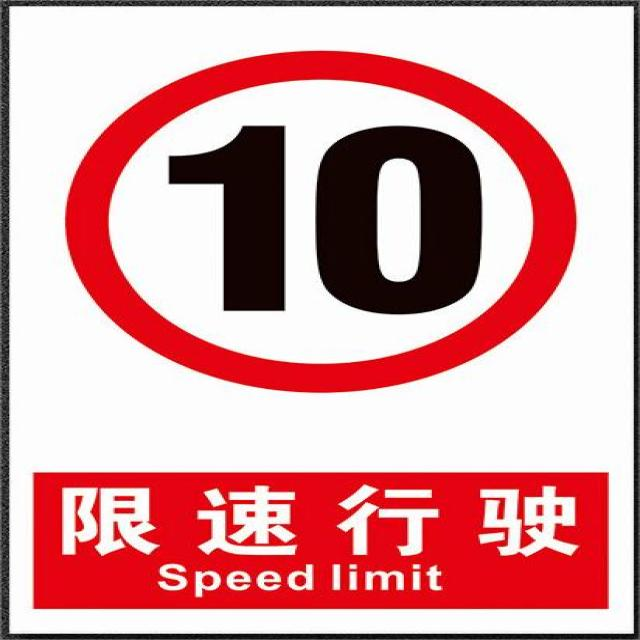speed limit 10: (63, 49, 578, 395)
